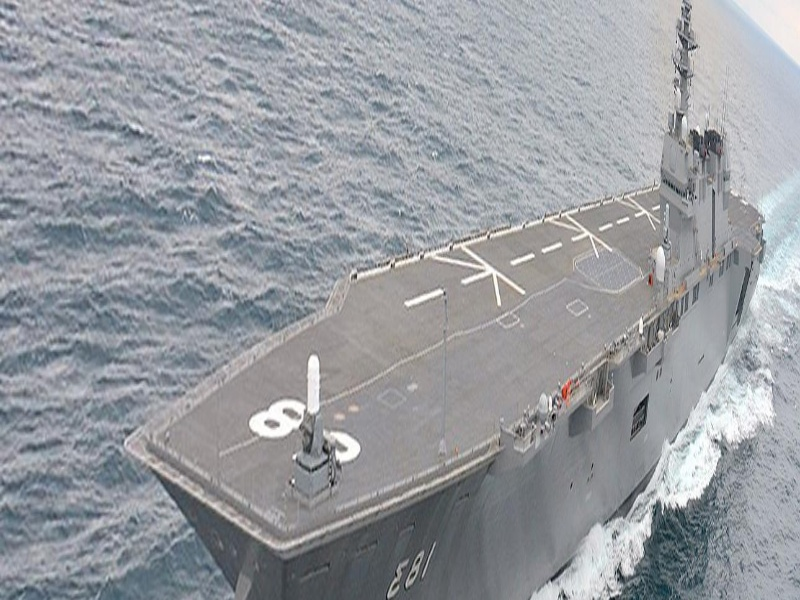cruise: (129, 136, 769, 588)
